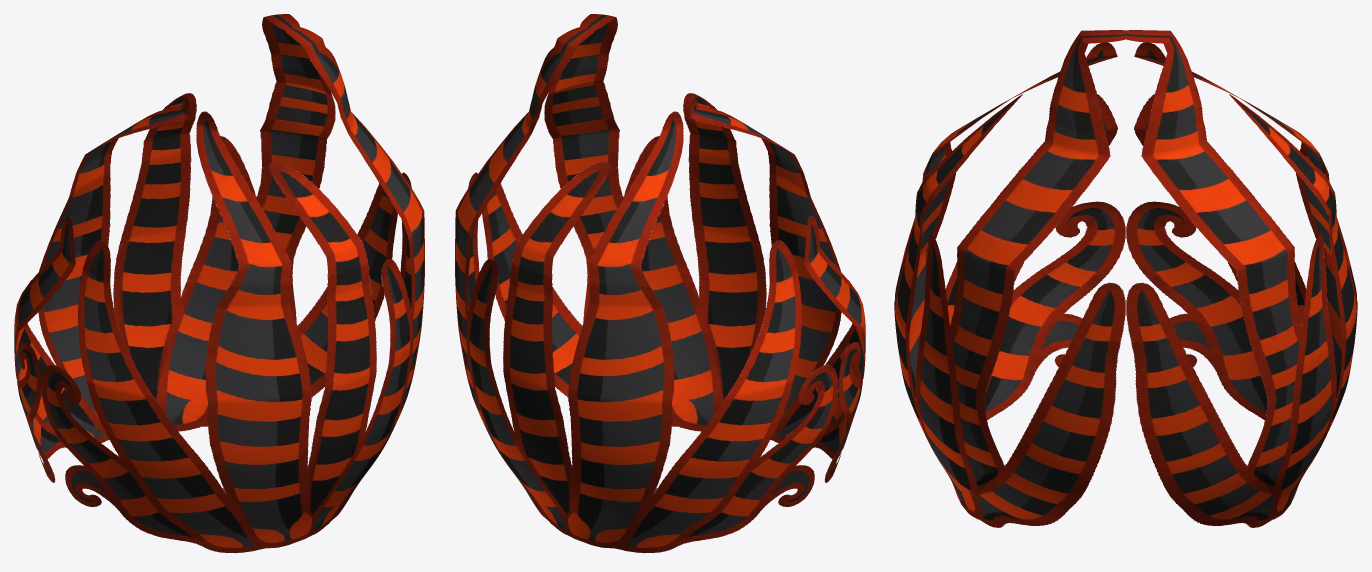
Rendered from striped_fronds.glb.
3 views of the same model, side by side, from view 1: azimuth 30°, elevation 25°; view 2: azimuth 150°, elevation 25°; view 3: azimuth 270°, elevation 25° (orthographic). The views are drawn at different scales.
Visible parts, largest first — view 1: striped_fronds; view 2: striped_fronds; view 3: striped_fronds.
Boxes of the visible parts, x1,y1,x2,y2 form: striped_fronds: (14, 14, 424, 553); striped_fronds: (455, 14, 865, 553); striped_fronds: (894, 30, 1357, 527).
Size of the model in its own units: 1 by 1.18 by 0.9852.
1 material, 1 textured.
